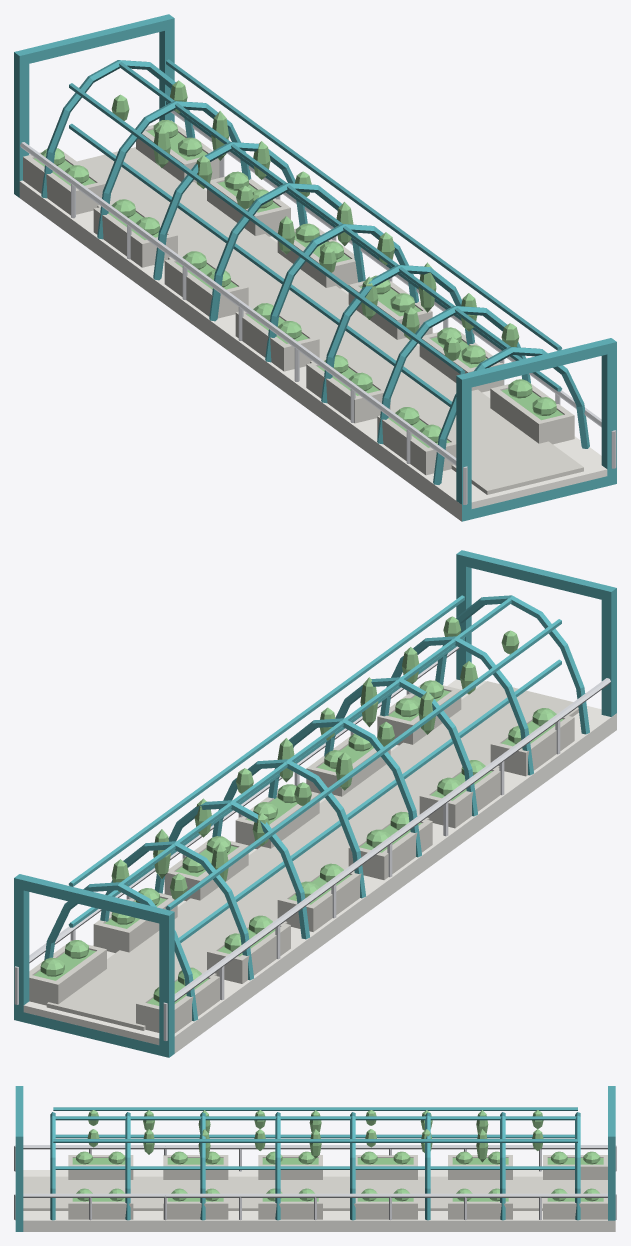
File: arcology-towers-and-skyways-open-trellis-span-d8a537c5__23253.glb
3 views of the same model, one above another, from view 1: azimuth 30°, elevation 25°; view 2: azimuth 150°, elevation 25°; view 3: azimuth 270°, elevation 25° (orthographic). The views are drawn at different scales.
Visible parts, largest first — view 1: open-trellis-span; view 2: open-trellis-span; view 3: open-trellis-span.
Part boxes in pixels (x1,y1,x2,y2): open-trellis-span: (14, 14, 616, 521); open-trellis-span: (14, 550, 616, 1057); open-trellis-span: (14, 1086, 616, 1231).
Size of the model in its own units: 4.83 by 4.2 by 24.13.
